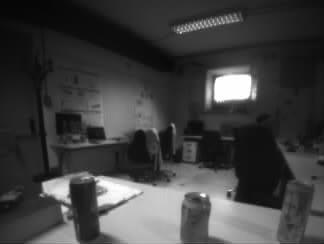Tin can: (281, 182, 311, 244), (71, 176, 98, 241), (180, 190, 209, 243)
